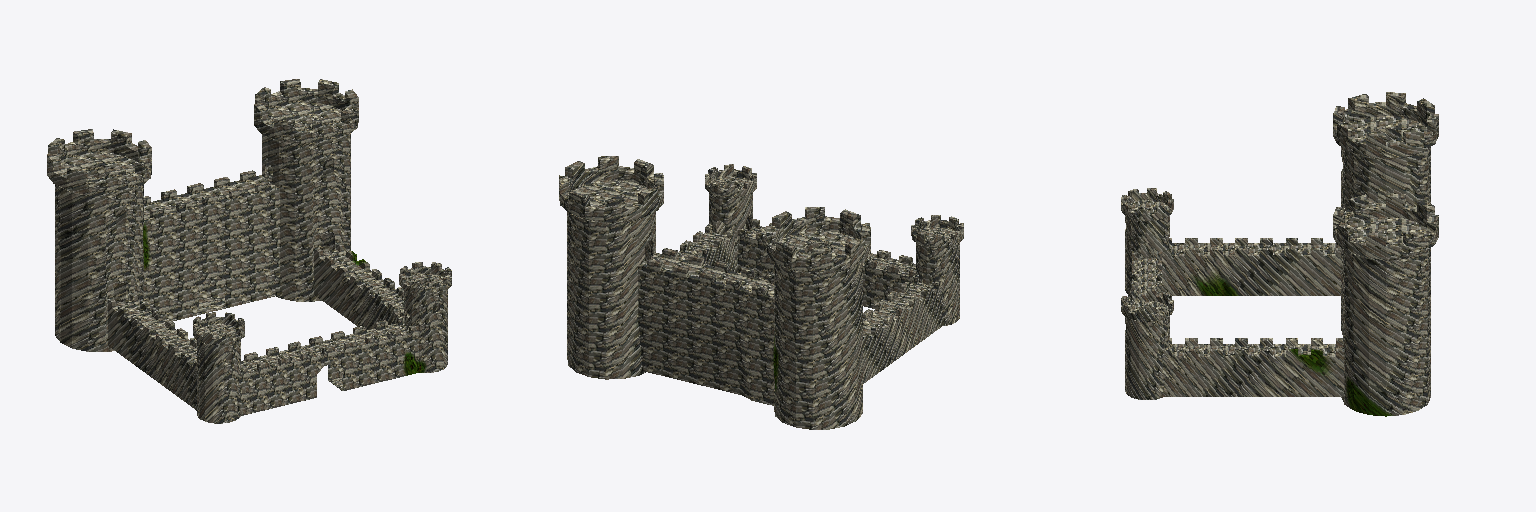
3 renders of one model, left to right at view 1: azimuth 30°, elevation 25°; view 2: azimuth 150°, elevation 25°; view 3: azimuth 270°, elevation 25°, orthographic.
Visible parts, largest first — view 1: 円柱; view 2: 円柱; view 3: 円柱.
Part boxes in pixels (x1,y1,x2,y2): 円柱: (47, 79, 451, 423); 円柱: (559, 156, 963, 429); 円柱: (1121, 92, 1438, 416).
Size of the model in its own units: 23.14 by 13.49 by 21.36.
1 materials, 1 textured.